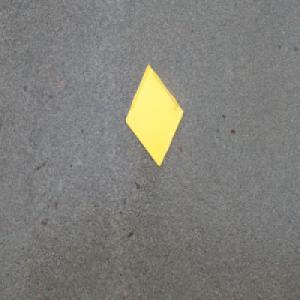PlasticPart: (124, 62, 185, 168)
